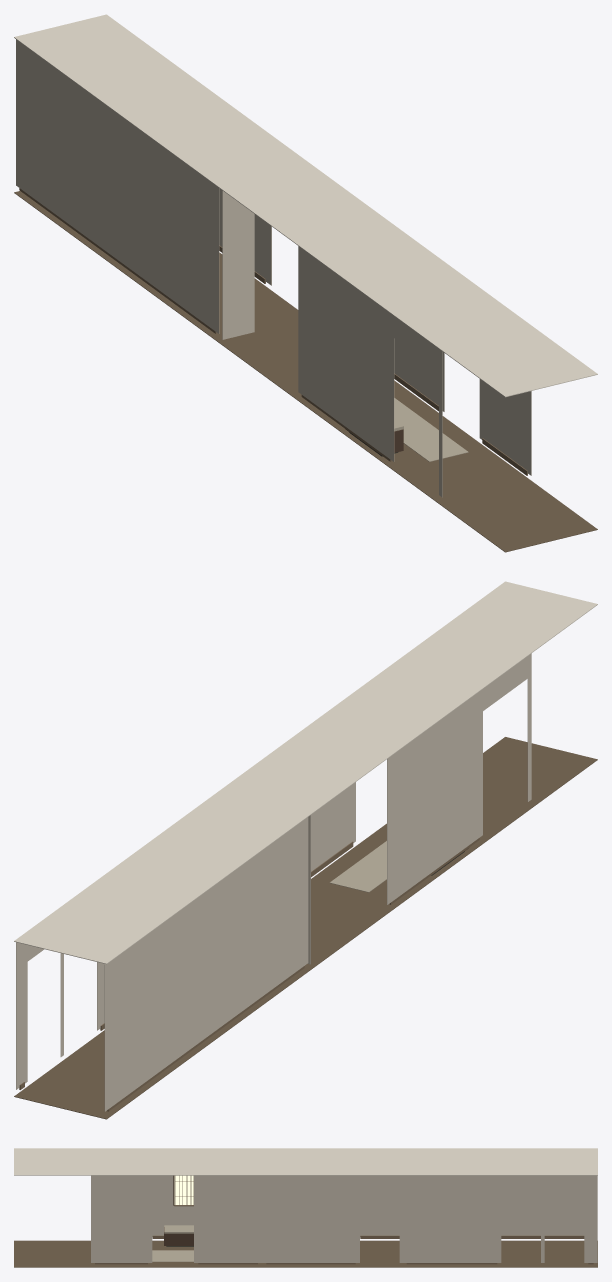
Rendered from corridor-2.glb.
3 views of the same model, one above another, from view 1: azimuth 30°, elevation 25°; view 2: azimuth 150°, elevation 25°; view 3: azimuth 270°, elevation 25° (orthographic). The views are drawn at different scales.
Parts seen in each view (by area): view 1: DESIGN | Entrance coordinated ceiling, DESIGN | Entrance paired wall finish, DESIGN | Entrance floor finish, DESIGN | Entrance paired wall finish.003, DESIGN | Arch approach finish, DESIGN | Entrance paired wall finish.013, DESIGN | Entrance quiet runner, DESIGN | Entrance paired wall finish.012, DESIGN | Entrance paired wall finish.006, DESIGN | Entrance paired wall finish.002; view 2: DESIGN | Entrance coordinated ceiling, DESIGN | Entrance paired wall finish, DESIGN | Entrance floor finish, DESIGN | Entrance paired wall finish.003, DESIGN | Entrance paired wall finish.012, DESIGN | Entrance paired wall finish.005, DESIGN | Entrance quiet runner, DESIGN | Entrance paired wall finish.002, DESIGN | Entrance paired wall finish.001; view 3: DESIGN | Entrance coordinated ceiling, DESIGN | Entrance paired wall finish.006, DESIGN | Entrance paired wall finish.009, DESIGN | Entrance floor finish, DESIGN | Entrance paired wall finish.012, DESIGN | Entrance paired wall finish, DESIGN | Entrance paired wall finish.013, DESIGN | Entrance paired wall finish.003, DESIGN | Entrance paired wall finish.005, DESIGN | Entrance paired wall finish.007, DESIGN | Entrance paired wall finish.010, DESIGN | Entrance paired wall finish.004 (+8 smaller).
Boxes of the visible parts, bbox=[...] form: DESIGN | Entrance coordinated ceiling: bbox=[14, 14, 597, 397]; DESIGN | Entrance paired wall finish: bbox=[16, 39, 219, 333]; DESIGN | Entrance floor finish: bbox=[14, 191, 597, 552]; DESIGN | Entrance paired wall finish.003: bbox=[298, 246, 394, 461]; DESIGN | Arch approach finish: bbox=[222, 190, 254, 339]; DESIGN | Entrance paired wall finish.013: bbox=[479, 379, 531, 475]; DESIGN | Entrance quiet runner: bbox=[394, 398, 468, 461]; DESIGN | Entrance paired wall finish.012: bbox=[394, 339, 444, 411]; DESIGN | Entrance paired wall finish.006: bbox=[219, 188, 268, 283]; DESIGN | Entrance paired wall finish.002: bbox=[394, 316, 438, 370]; DESIGN | Entrance coordinated ceiling: bbox=[14, 581, 597, 964]; DESIGN | Entrance paired wall finish: bbox=[104, 817, 308, 1111]; DESIGN | Entrance floor finish: bbox=[14, 737, 597, 1119]; DESIGN | Entrance paired wall finish.003: bbox=[387, 689, 482, 904]; DESIGN | Entrance paired wall finish.012: bbox=[311, 782, 355, 871]; DESIGN | Entrance paired wall finish.005: bbox=[16, 942, 27, 1089]; DESIGN | Entrance quiet runner: bbox=[329, 841, 386, 892]; DESIGN | Entrance paired wall finish.002: bbox=[483, 656, 527, 710]; DESIGN | Entrance paired wall finish.001: bbox=[527, 653, 531, 801]; DESIGN | Entrance coordinated ceiling: bbox=[14, 1148, 597, 1175]; DESIGN | Entrance paired wall finish.006: bbox=[402, 1175, 501, 1262]; DESIGN | Entrance paired wall finish.009: bbox=[262, 1175, 359, 1262]; DESIGN | Entrance floor finish: bbox=[14, 1240, 597, 1267]; DESIGN | Entrance paired wall finish.012: bbox=[194, 1175, 262, 1262]; DESIGN | Entrance paired wall finish: bbox=[360, 1176, 584, 1236]; DESIGN | Entrance paired wall finish.013: bbox=[91, 1175, 152, 1262]; DESIGN | Entrance paired wall finish.003: bbox=[152, 1175, 193, 1236]; DESIGN | Entrance paired wall finish.005: bbox=[584, 1175, 597, 1262]; DESIGN | Entrance paired wall finish.007: bbox=[501, 1175, 540, 1191]; DESIGN | Entrance paired wall finish.010: bbox=[360, 1175, 399, 1191]; DESIGN | Entrance paired wall finish.004: bbox=[545, 1175, 584, 1191].
Bounding box in the file's own units: 1.7 × 2.73 × 15.61.
